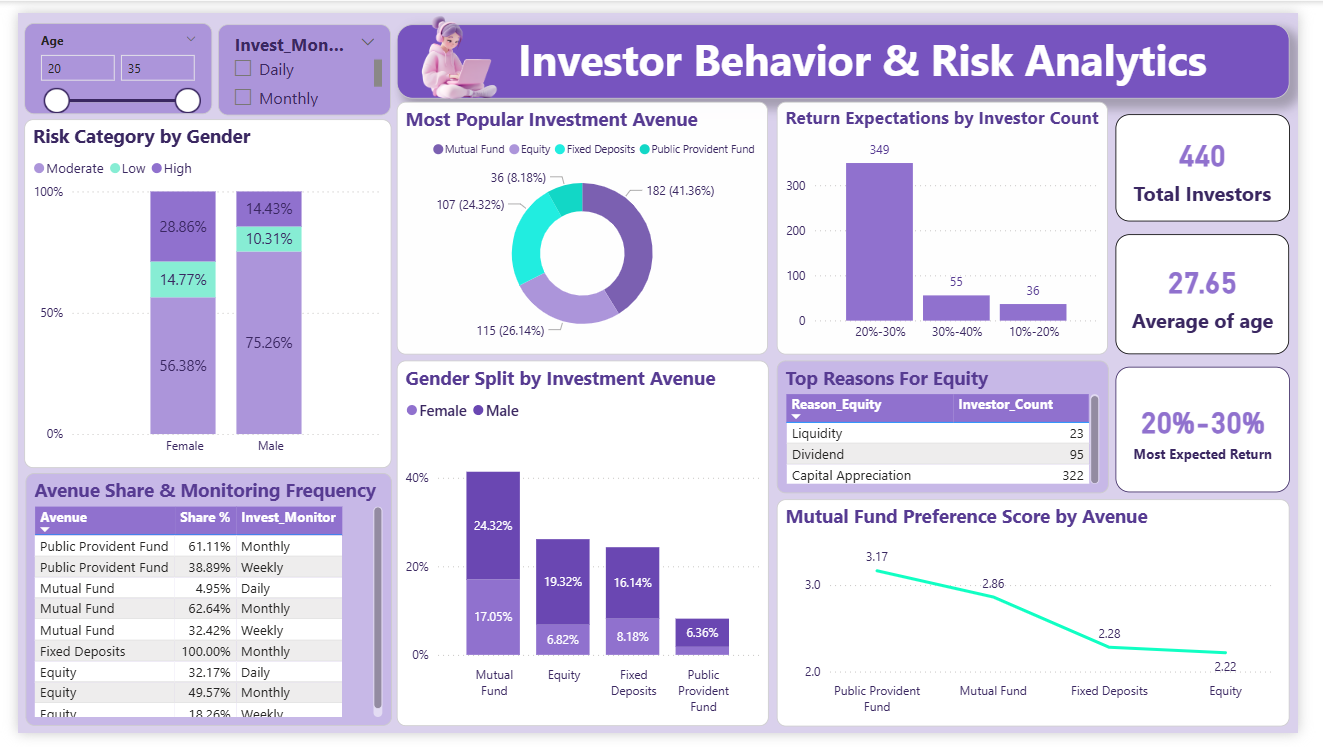

The page's visual inventory and layout, read from the dashboard file:
{"tool":"powerbi","page":{"name":"Page 1","canvas":[1280,720],"ordinal":0},"visuals":[{"type":"textbox","box":[378.6,11.4,892.9,74.3],"z":0},{"type":"card","fields":{"Values":["Avg(Finance_data_extended (1).age)"]},"box":[1097.5,221.2,173.8,120],"z":1000},{"type":"card","fields":{"Values":["Finance_data_extended (1).Top Return Expectation"]},"box":[1097.1,354.3,174.3,125.7],"z":2000},{"type":"card","title":"Total Investors","fields":{"Values":["CountNonNull(Finance_data_extended (1).Investment_Avenues)"]},"box":[1097.1,101.4,174.3,107.1],"z":3000},{"type":"clusteredColumnChart","title":"Return Expectations by Investor Count","fields":{"Category":["Finance_data_extended (1).Expect"],"Y":["Finance_data_extended (1).Bucket"]},"box":[758.6,88.6,331.4,252.9],"z":4000},{"type":"donutChart","title":"Most Popular Investment Avenue","fields":{"Category":["Finance_data_extended (1).Avenue"],"Y":["Finance_data_extended (1).Investor_Count"]},"box":[378.6,88.6,371.4,252.9],"z":5000},{"type":"tableEx","title":"Top Reasons For Equity","fields":{"Values":["Finance_data_extended (1).Reason_Equity","Finance_data_extended (1).Investor_Count"]},"box":[758.3,347.5,331.7,132.5],"z":6000},{"type":"columnChart","title":"Gender Split by Investment Avenue","fields":{"Category":["Finance_data_extended (1).Avenue"],"Series":["Finance_data_extended (1).gender"],"Y":["Finance_data_extended (1).Investor_Count"]},"box":[379.2,347.5,371.7,365.8],"z":7000},{"type":"lineChart","title":"Mutual Fund Preference Score by Avenue","fields":{"Y":["Avg(Finance_data_extended (1).Mutual_Funds)"],"Category":["Finance_data_extended (1).Avenue"]},"box":[759.2,486.7,512.5,227.5],"z":8000},{"type":"hundredPercentStackedColumnChart","title":"Risk Category by Gender","fields":{"Category":["Finance_data_extended (1).gender"],"Series":["Finance_data_extended (1).Expection_level"],"Y":["Finance_data_extended (1).Investor_Count"]},"box":[6.2,106.2,367.5,348.8],"z":9000},{"type":"tableEx","title":"Avenue Share & Monitoring Frequency","fields":{"Values":["Finance_data_extended (1).Avenue","Finance_data_extended (1).Share %","Finance_data_extended (1).Invest_Monitor"]},"box":[7.4,460.3,366.2,252.9],"z":10000},{"type":"slicer","fields":{"Values":["Finance_data_extended (1).age"]},"box":[6.7,10,188.1,91.3],"z":11000},{"type":"slicer","fields":{"Values":["Finance_data_extended (1).Invest_Monitor"]},"box":[200,11.5,173.1,91.5],"z":12000},{"type":"image","box":[333.8,0,215,88.8],"z":13000}]}

Visuals, with their boxes in screenshot pixels (x1, y1, x2, y2), scaled from the page's 1280x720 canvas onto the 1323x747 screenshot:
textbox: detection(391, 12, 1314, 89)
card - Avg(Finance_data_extended (1).age): detection(1134, 229, 1314, 354)
card - Finance_data_extended (1).Top Return Expectation: detection(1134, 368, 1314, 498)
"Total Investors" card: detection(1134, 105, 1314, 216)
"Return Expectations by Investor Count" clusteredColumnChart: detection(784, 92, 1127, 354)
"Most Popular Investment Avenue" donutChart: detection(391, 92, 775, 354)
"Top Reasons For Equity" tableEx: detection(784, 361, 1127, 498)
"Gender Split by Investment Avenue" columnChart: detection(392, 361, 776, 740)
"Mutual Fund Preference Score by Avenue" lineChart: detection(785, 505, 1314, 741)
"Risk Category by Gender" hundredPercentStackedColumnChart: detection(6, 110, 386, 472)
"Avenue Share & Monitoring Frequency" tableEx: detection(8, 478, 386, 740)
slicer - Finance_data_extended (1).age: detection(7, 10, 201, 105)
slicer - Finance_data_extended (1).Invest_Monitor: detection(207, 12, 386, 107)
image: detection(345, 0, 567, 92)
